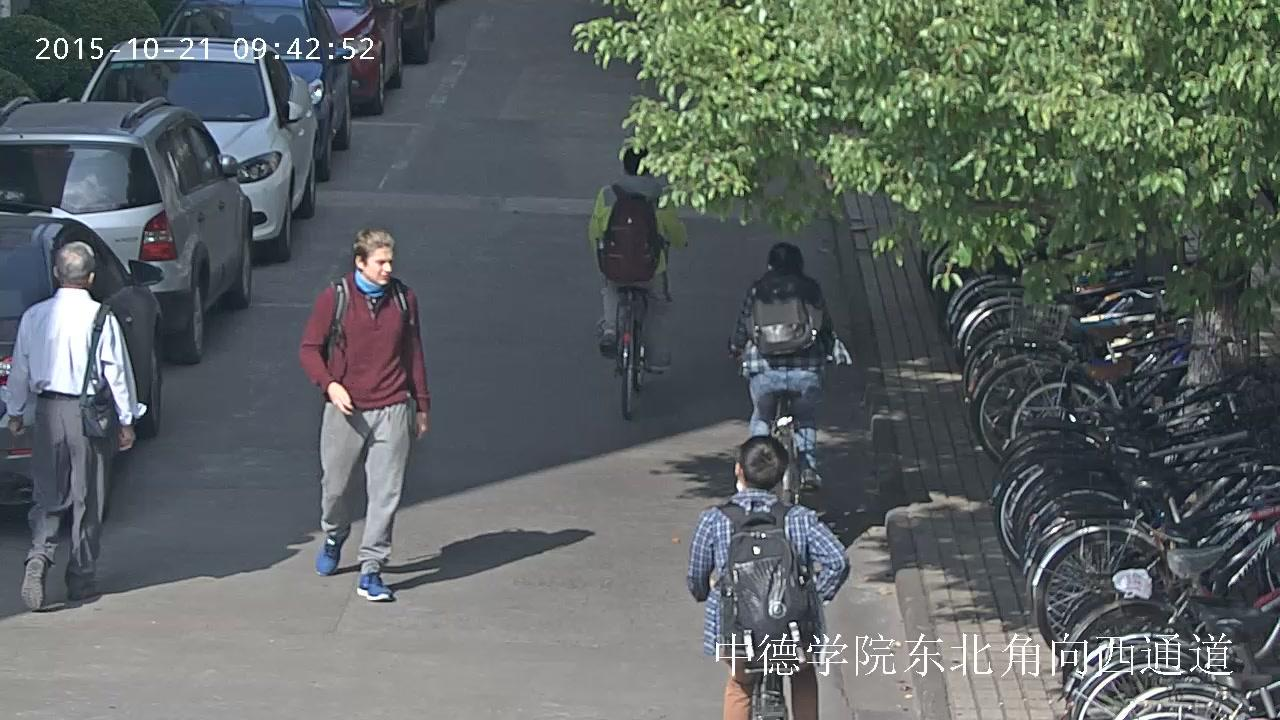face: (360, 245, 392, 285)
